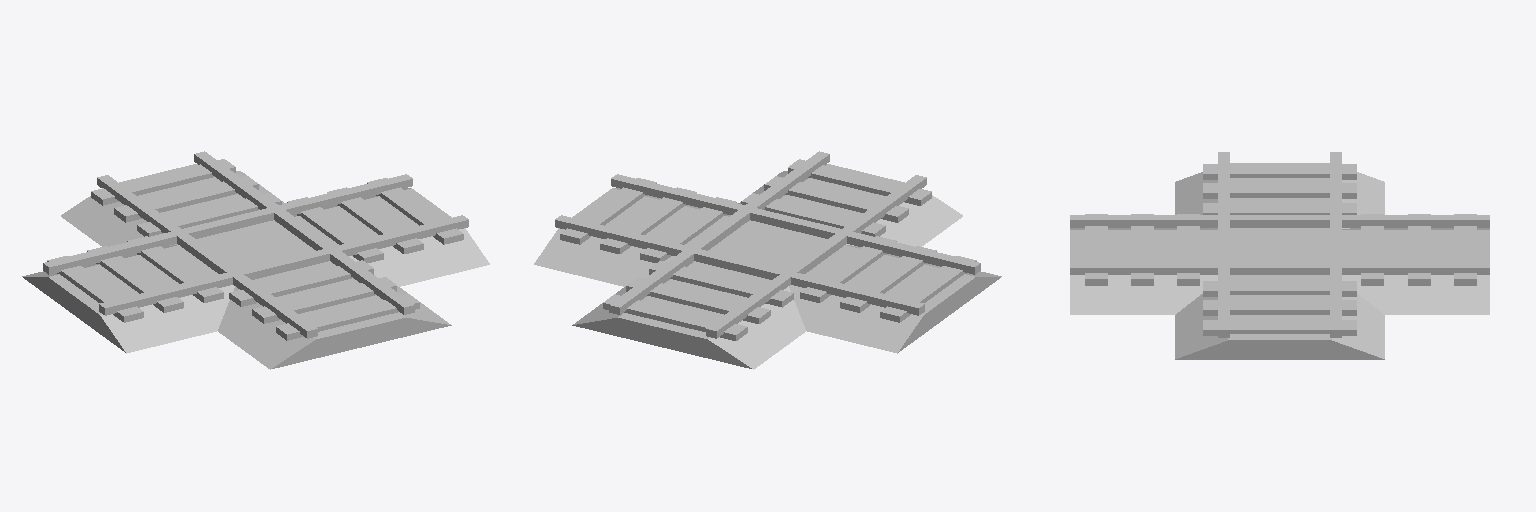
The model's file is SM_Env_Track_Cross_01.obj.
3 views of the same model, side by side, from view 1: azimuth 30°, elevation 25°; view 2: azimuth 150°, elevation 25°; view 3: azimuth 270°, elevation 25° (orthographic).
Parts seen in each view (by area): view 1: SM_Env_Track_Cross_01:Mesh; view 2: SM_Env_Track_Cross_01:Mesh; view 3: SM_Env_Track_Cross_01:Mesh.
Part boxes in pixels (bbox=[...]): SM_Env_Track_Cross_01:Mesh: bbox=[22, 151, 489, 369]; SM_Env_Track_Cross_01:Mesh: bbox=[534, 151, 1001, 369]; SM_Env_Track_Cross_01:Mesh: bbox=[1070, 152, 1489, 359].
Bounding box in the file's own units: 10 × 0.7719 × 10.